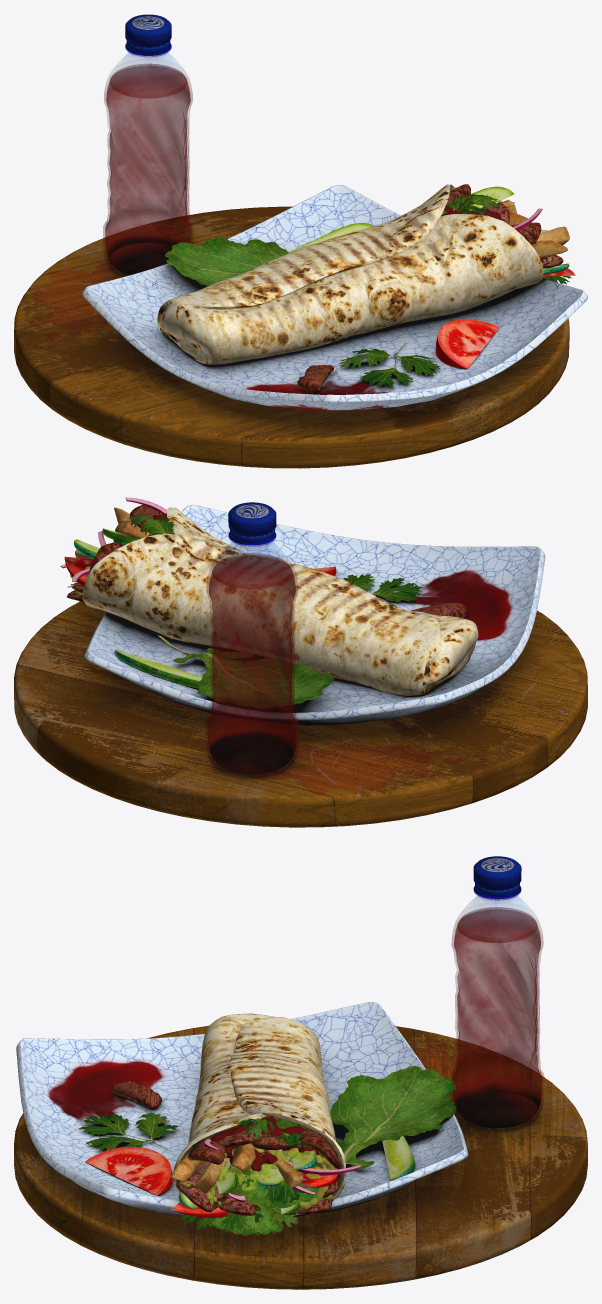
Rendered from burger.glb.
The picture shows the model from 3 angles, top to bottom: view 1: azimuth 30°, elevation 25°; view 2: azimuth 150°, elevation 25°; view 3: azimuth 270°, elevation 25°; orthographic projection. The views are drawn at different scales.
Parts seen in each view (by area): view 1: Table, shava.002, tarelka, botl_inside, botl_base, salat032, tomato, petrushka23, botle_cap, potato, petrushka030, meat24; view 2: Table, shava.002, tarelka, botl_inside, botl_base, salat032, botle_cap, ogurec33, petrushka23, petrushka030, meat24, potato (+1 smaller); view 3: Table, tarelka, botl_inside, botl_base, shava.002, salat032, tomato, petrushka23, botle_cap, cheez, potato, mayonez (+14 smaller).
Part boxes in pixels (x1,y1,x2,y2): Table: [14, 206, 569, 468]; shava.002: [157, 184, 543, 364]; tarelka: [82, 185, 587, 410]; botl_inside: [105, 63, 191, 275]; botl_base: [103, 48, 193, 276]; salat032: [165, 236, 288, 286]; tomato: [435, 319, 499, 369]; petrushka23: [339, 343, 440, 387]; botle_cap: [125, 14, 171, 55]; potato: [509, 212, 569, 257]; petrushka030: [441, 194, 500, 228]; meat24: [297, 364, 333, 392]; Table: [14, 601, 587, 827]; shava.002: [82, 507, 478, 696]; tarelka: [84, 505, 545, 725]; botl_inside: [208, 553, 296, 774]; botl_base: [205, 538, 299, 776]; salat032: [157, 635, 333, 708]; botle_cap: [228, 502, 276, 545]; ogurec33: [114, 650, 202, 688]; petrushka23: [343, 574, 422, 606]; petrushka030: [113, 513, 174, 545]; meat24: [411, 602, 466, 618]; potato: [114, 507, 151, 538]; Table: [14, 1025, 587, 1289]; tarelka: [16, 1002, 468, 1218]; botl_inside: [453, 907, 541, 1127]; botl_base: [450, 892, 544, 1130]; shava.002: [173, 1013, 345, 1215]; salat032: [318, 1065, 456, 1168]; tomato: [85, 1146, 172, 1195]; petrushka23: [78, 1112, 179, 1151]; botle_cap: [473, 856, 521, 899]; cheez: [178, 1148, 335, 1210]; potato: [170, 1143, 255, 1193]; mayonez: [210, 1117, 319, 1171].
Bounding box in the file's own units: 0.7059 × 0.3798 × 0.7053.
9 materials, 8 textured.
